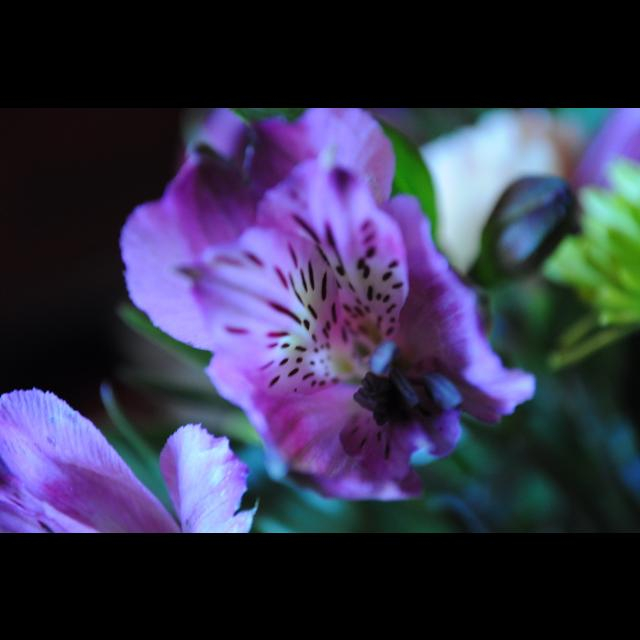Flower: (132, 109, 498, 503), (0, 388, 262, 532)
